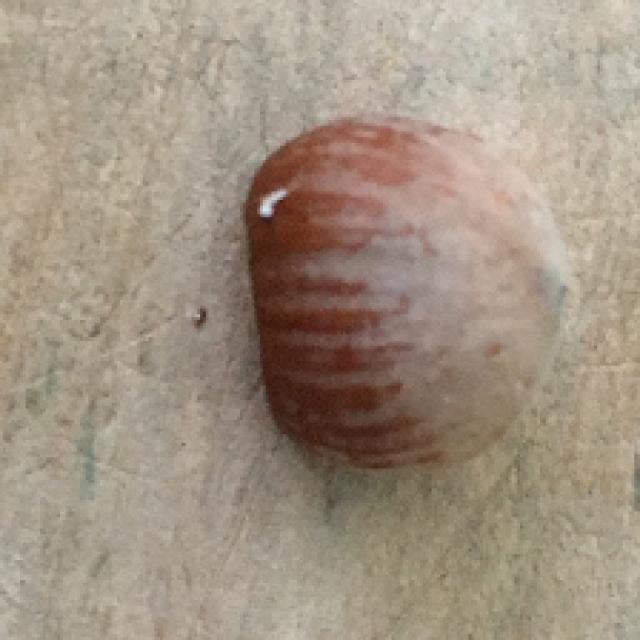qualityHazelnut: (229, 97, 577, 473)
